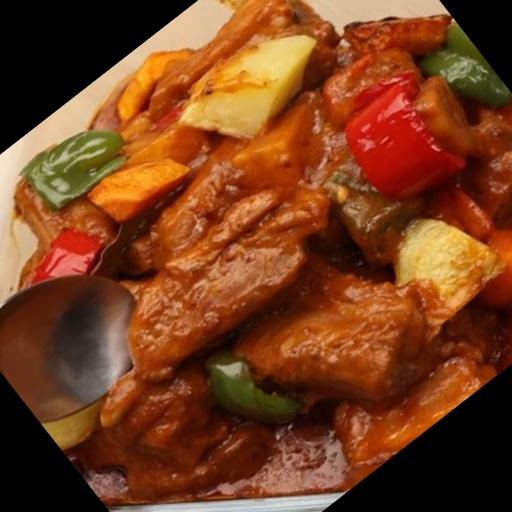pork caldereta: (24, 0, 511, 498)
